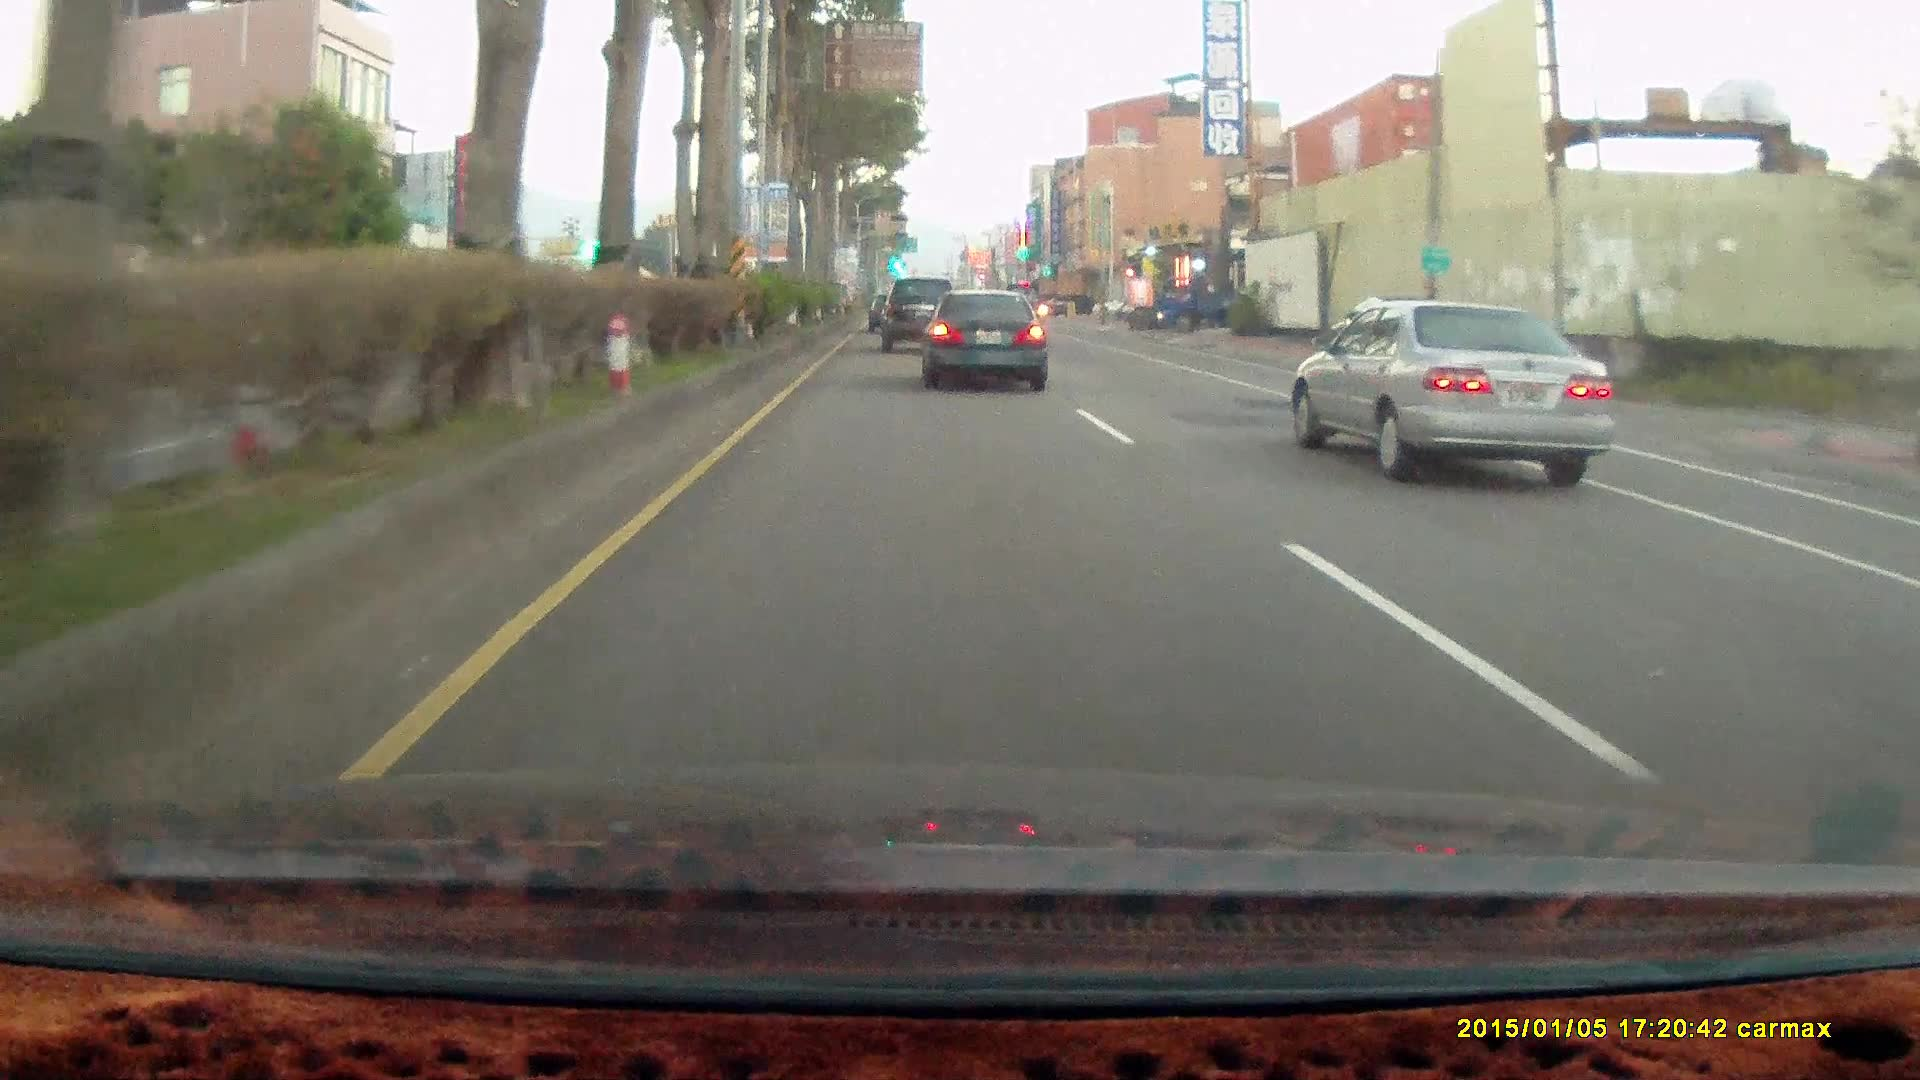vehicle: (1291, 295, 1615, 484), (1288, 295, 1622, 479), (916, 286, 1047, 390), (926, 289, 1055, 390), (1151, 270, 1246, 336), (1150, 270, 1245, 334), (880, 274, 960, 347), (880, 276, 960, 348), (1052, 291, 1095, 313)
